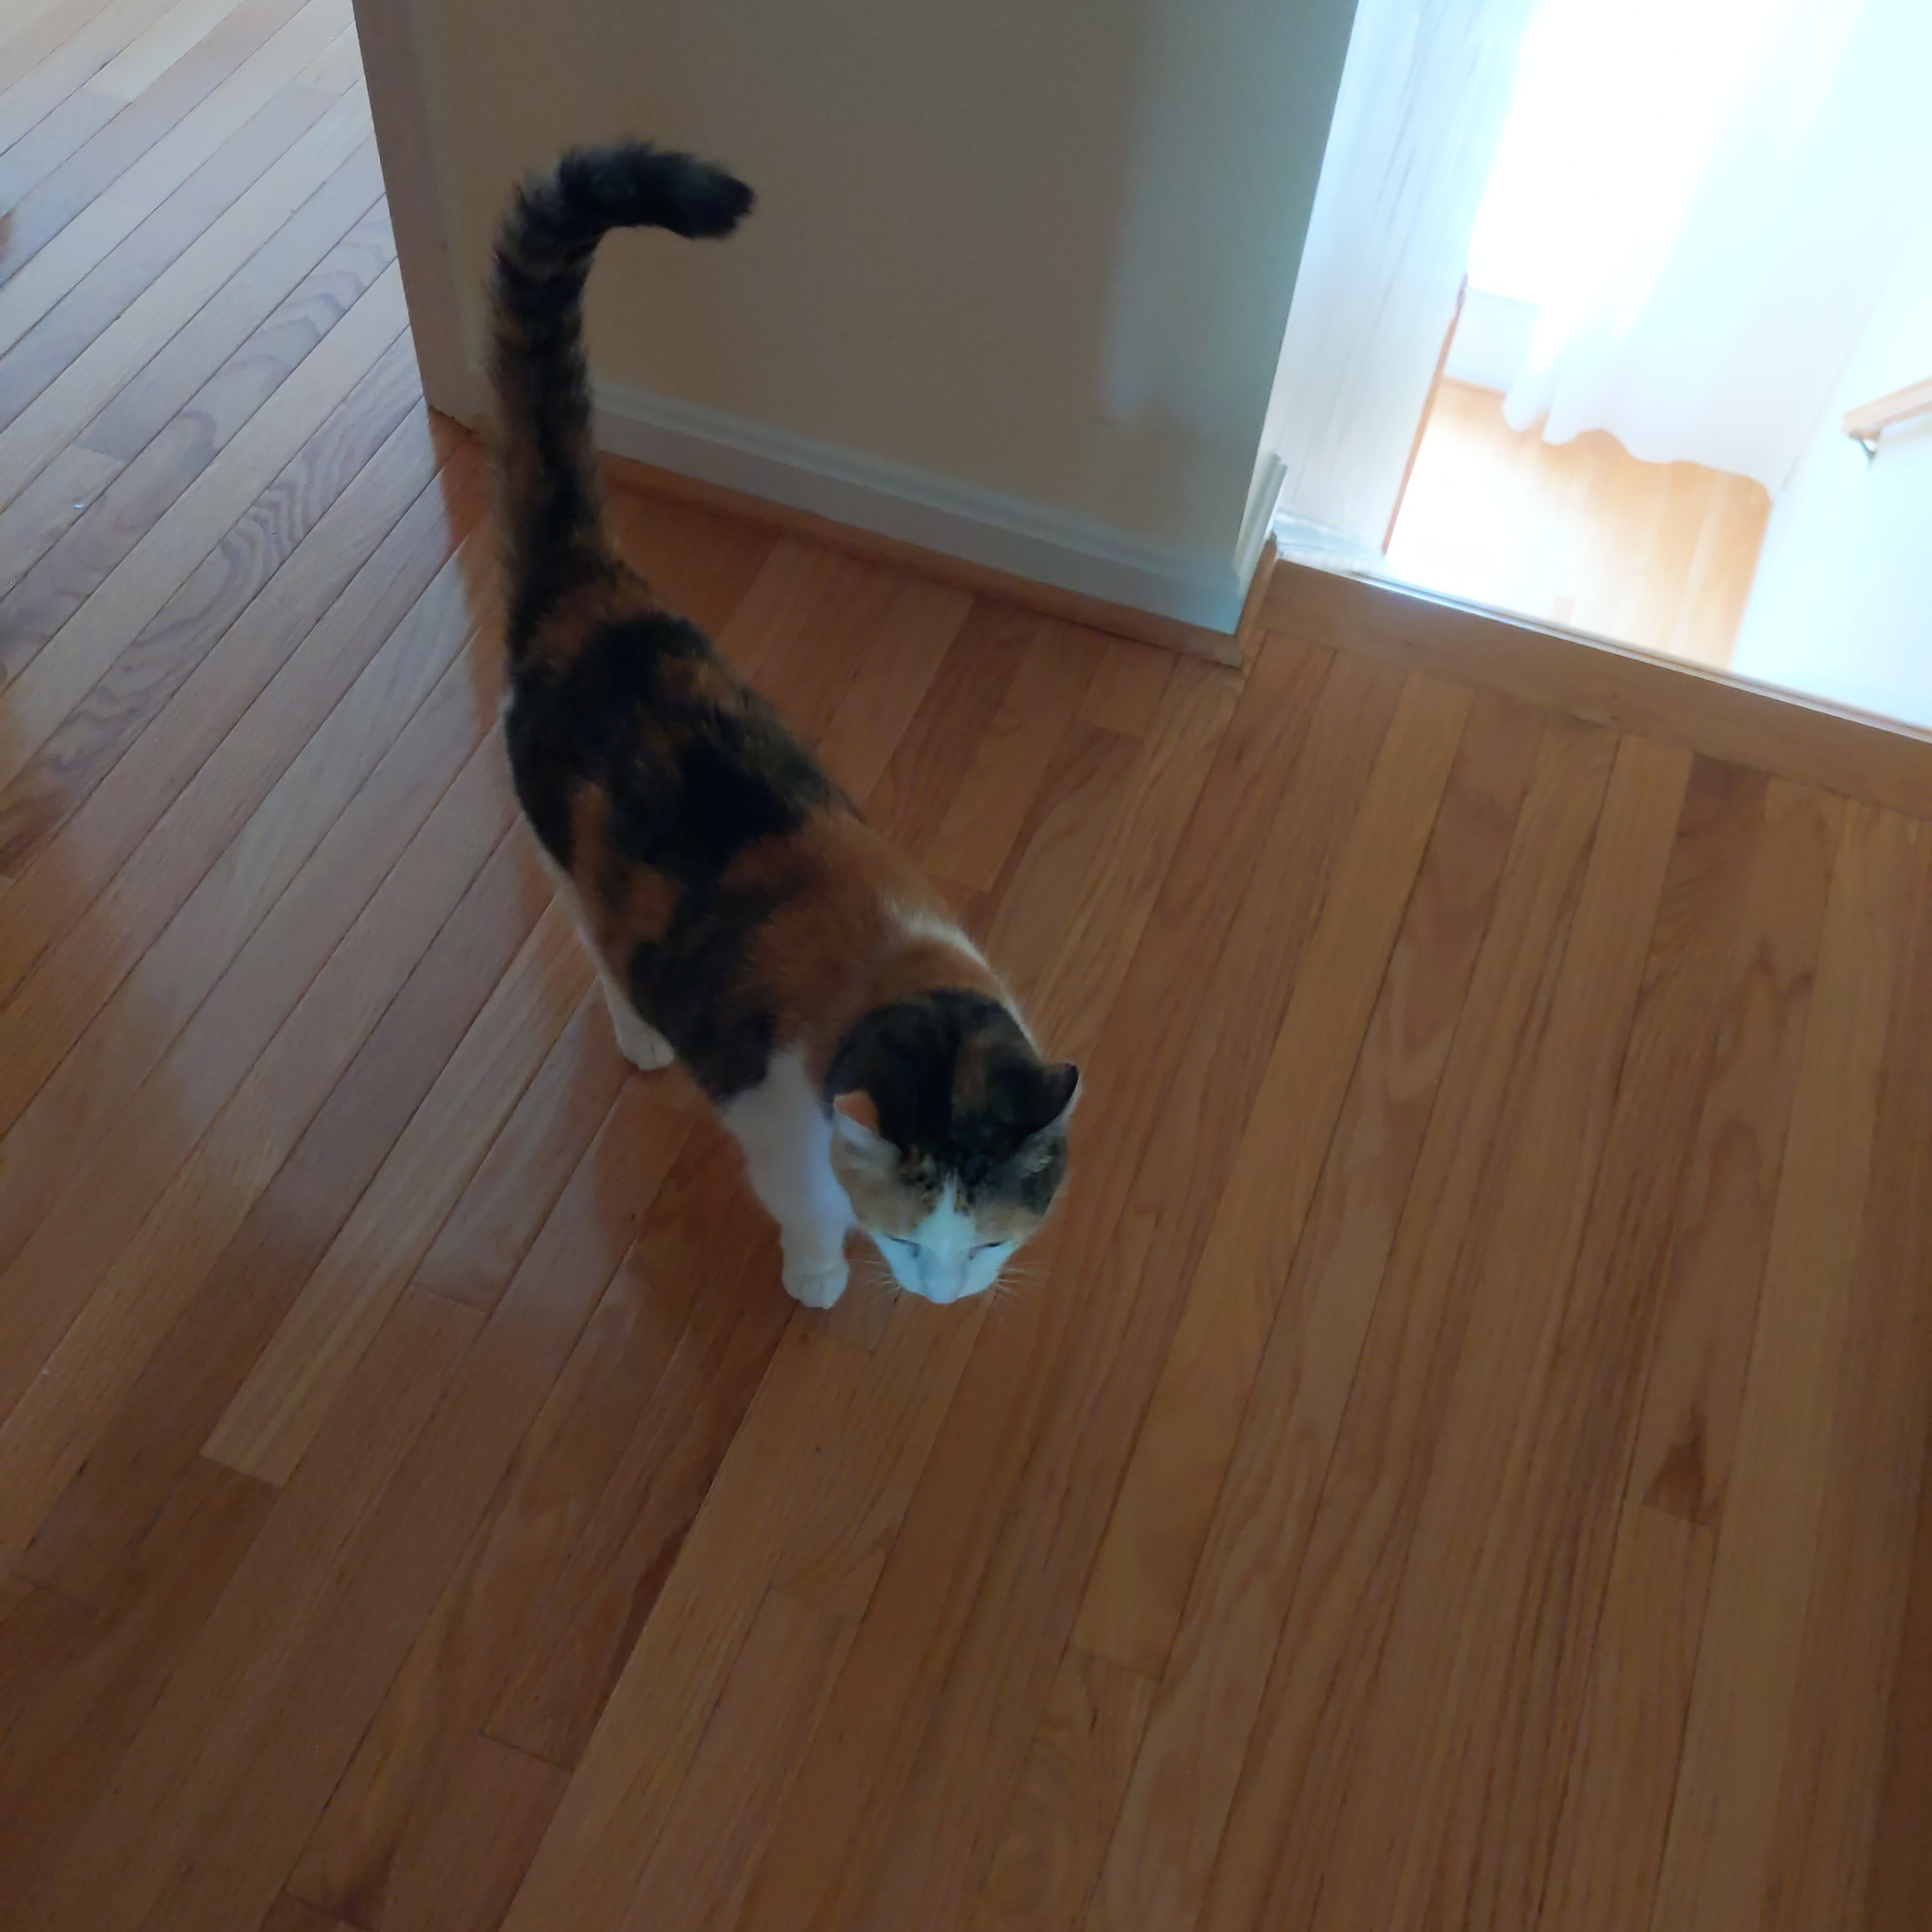Calico: (488, 140, 1085, 1311)
